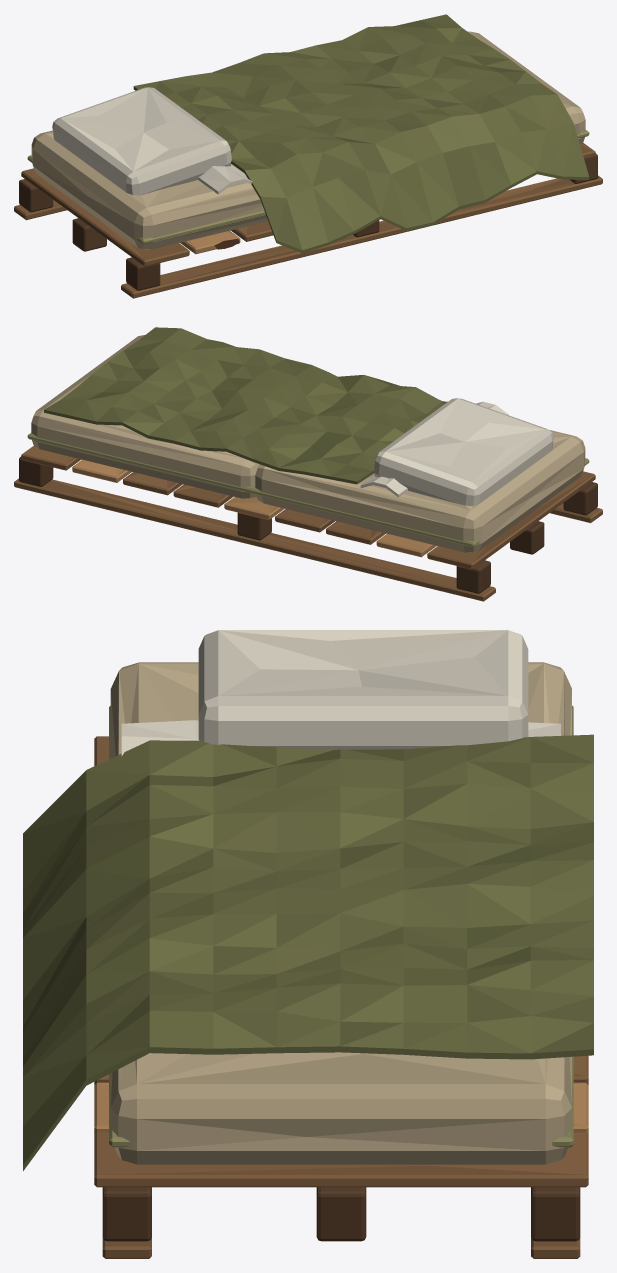
Rendered from bed_single_nizkaya_idle.glb.
3 renders of one model, top to bottom at view 1: azimuth 30°, elevation 25°; view 2: azimuth 150°, elevation 25°; view 3: azimuth 270°, elevation 25°, orthographic. The views are drawn at different scales.
Visible parts, largest first — view 1: bed_single_nizkaya_idle; view 2: bed_single_nizkaya_idle; view 3: bed_single_nizkaya_idle.
Part boxes in pixels (bbox=[...]): bed_single_nizkaya_idle: bbox=[14, 14, 602, 298]; bed_single_nizkaya_idle: bbox=[14, 327, 602, 601]; bed_single_nizkaya_idle: bbox=[23, 630, 593, 1258].
Bounding box in the file's own units: 1.98 × 0.4386 × 1.04.
1 material, 1 textured.
